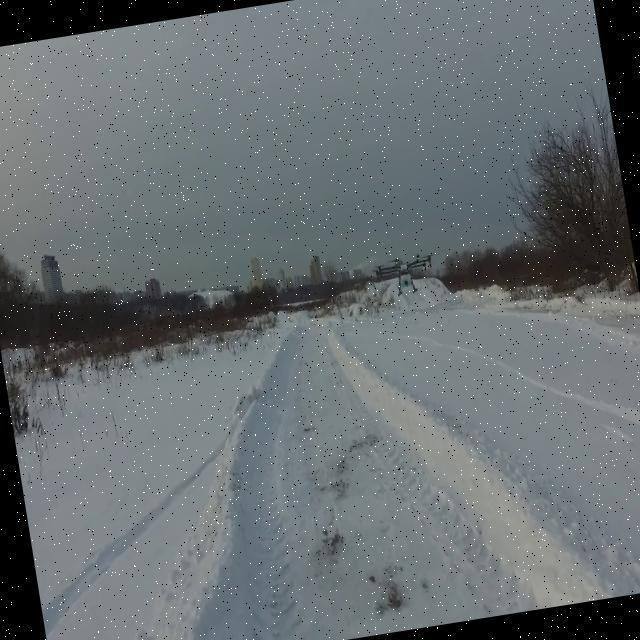Drons: (364, 242, 446, 310)
